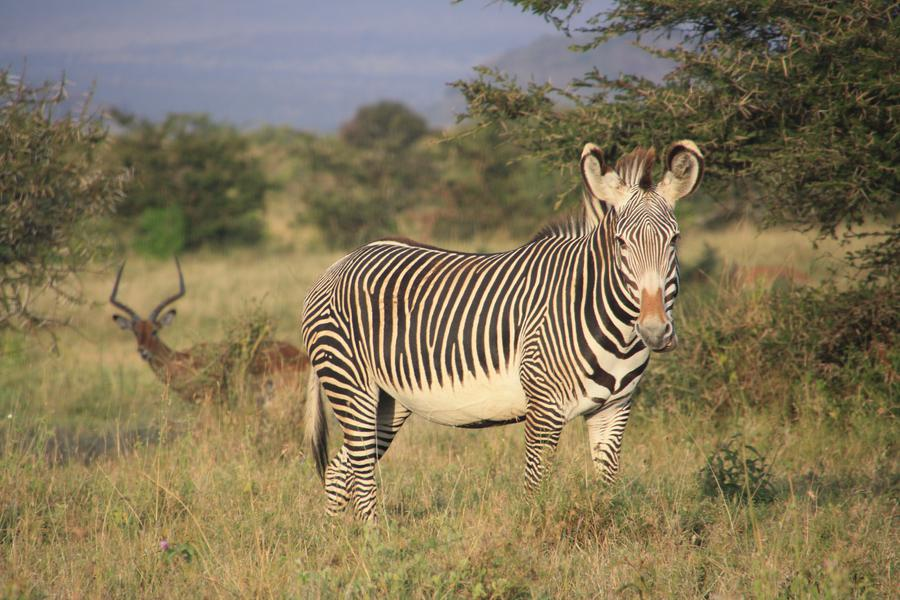zebra_grevys: (298, 227, 597, 411)
